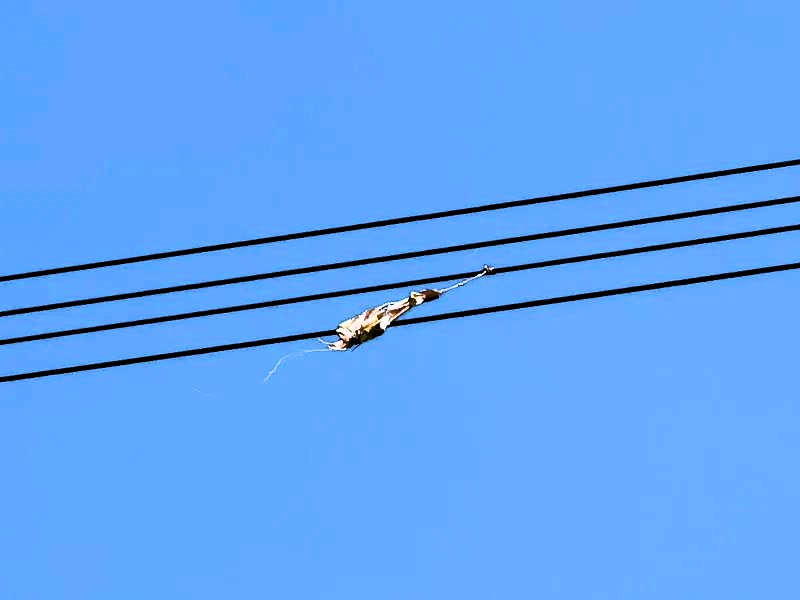wire foreign body: (321, 256, 498, 361)
